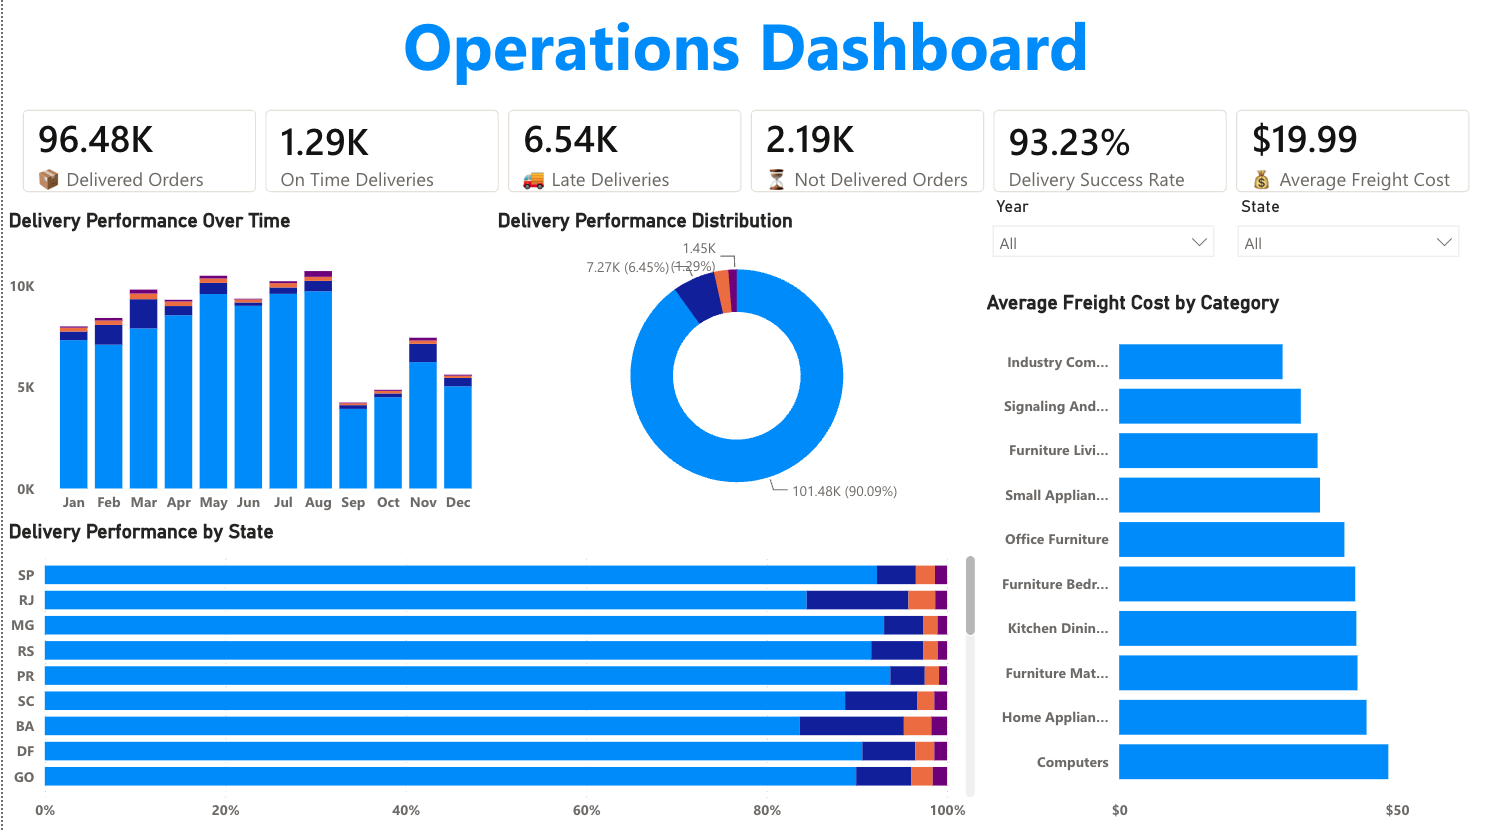

The dashboard page shown, as its layout file describes it:
{"tool":"powerbi","page":{"name":"Operations","canvas":[1280,720],"ordinal":2},"visuals":[{"type":"columnChart","title":"Delivery Performance Over Time","fields":{"Category":["dim_date.month_short"],"Series":["fact_sales.delivery_performance"],"Y":["KPI Measures.Total_Orders"]},"box":[0,186.7,421,268.1],"z":0},{"type":"textbox","box":[0,0,1280,91.4],"z":1},{"type":"donutChart","title":"Delivery Performance Distribution","fields":{"Category":["fact_sales.delivery_performance"],"Y":["CountNonNull(fact_sales.order_id)"]},"box":[420.8,187.1,421.7,267.1],"z":2},{"type":"clusteredBarChart","title":"Average Freight Cost by Category","fields":{"Category":["dim_category.product_category_name_english"],"Y":["Operations KPI.Average Freight Cost"]},"box":[842.1,257.2,422,462.7],"z":3},{"type":"cardVisual","fields":{"Data":["Operations KPI.Delivered Orders","Operations KPI.On Time Deliveries","Operations KPI.Late Deliveries","Operations KPI.Not Delivered Orders","Operations KPI.Delivery Success Rate","Operations KPI.Average Freight Cost"]},"box":[0,81.4,1280,105.3],"z":5},{"type":"hundredPercentStackedBarChart","title":"Delivery Performance by State","fields":{"Category":["dim_customer.customer_state"],"Series":["fact_sales.delivery_performance"],"Y":["CountNonNull(fact_sales.order_id)"]},"box":[0,454.8,842.1,265.1],"z":6},{"type":"slicer","fields":{"Values":["dim_date.year"]},"box":[842.5,170.4,210.8,77.3],"z":7},{"type":"slicer","fields":{"Values":["dim_customer.customer_state"]},"box":[1053.3,170.4,210.8,77.3],"z":8}]}

Visuals, with their boxes in screenshot pixels (x1, y1, x2, y2), scaled from the page's 1280x720 canvas onto the 1485x830 screenshot:
"Delivery Performance Over Time" columnChart: <bbox>0, 215, 488, 524</bbox>
textbox: <bbox>0, 0, 1484, 105</bbox>
"Delivery Performance Distribution" donutChart: <bbox>488, 216, 977, 524</bbox>
"Average Freight Cost by Category" clusteredBarChart: <bbox>977, 296, 1467, 829</bbox>
cardVisual - Operations KPI.Delivered Orders x Operations KPI.On Time Deliveries: <bbox>0, 94, 1484, 215</bbox>
"Delivery Performance by State" hundredPercentStackedBarChart: <bbox>0, 524, 977, 829</bbox>
slicer - dim_date.year: <bbox>977, 196, 1222, 286</bbox>
slicer - dim_customer.customer_state: <bbox>1222, 196, 1467, 286</bbox>
